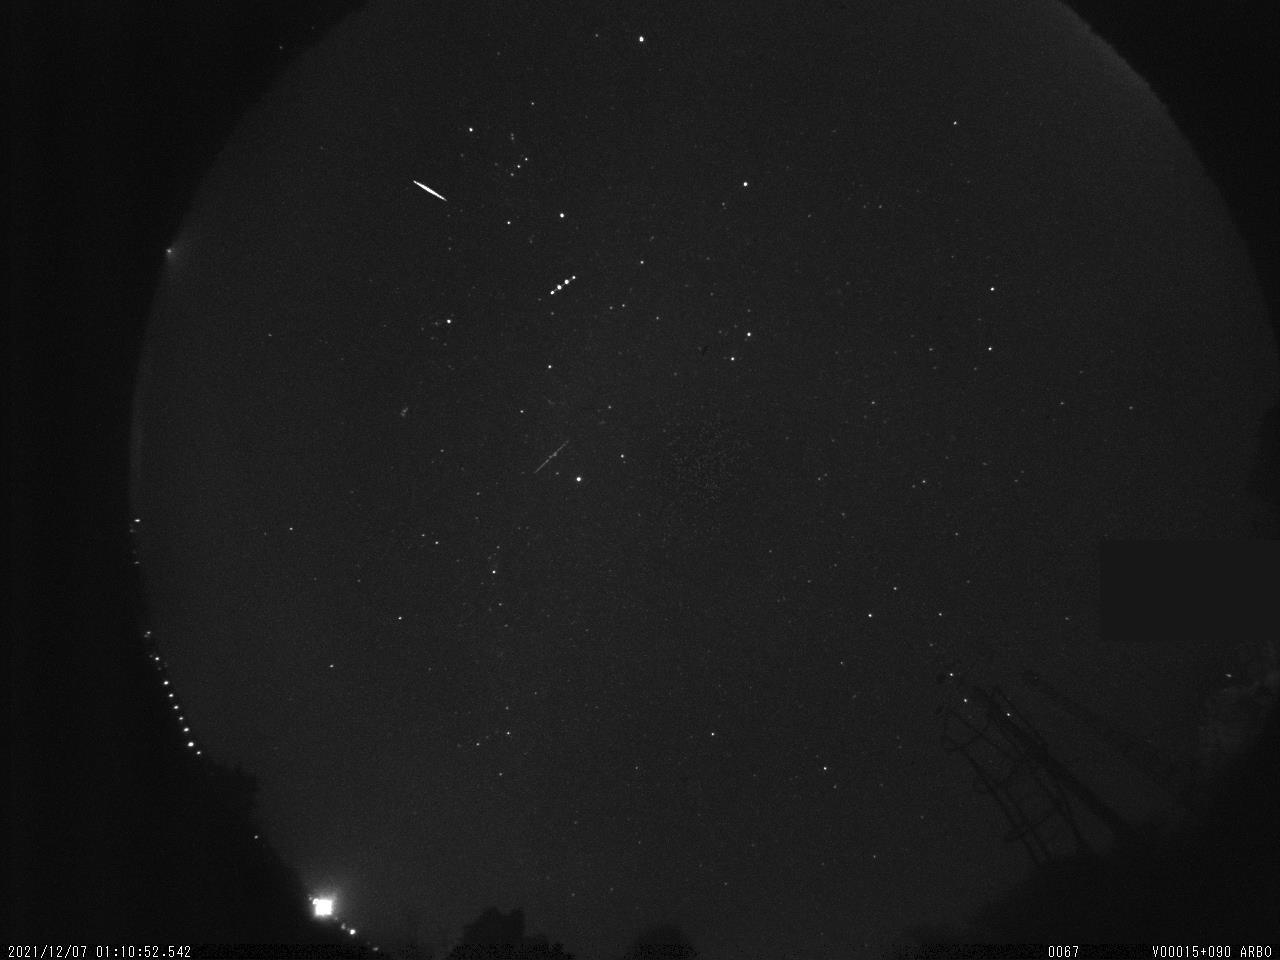meteor: (405, 169, 455, 209)
satelite: (543, 264, 581, 306)
